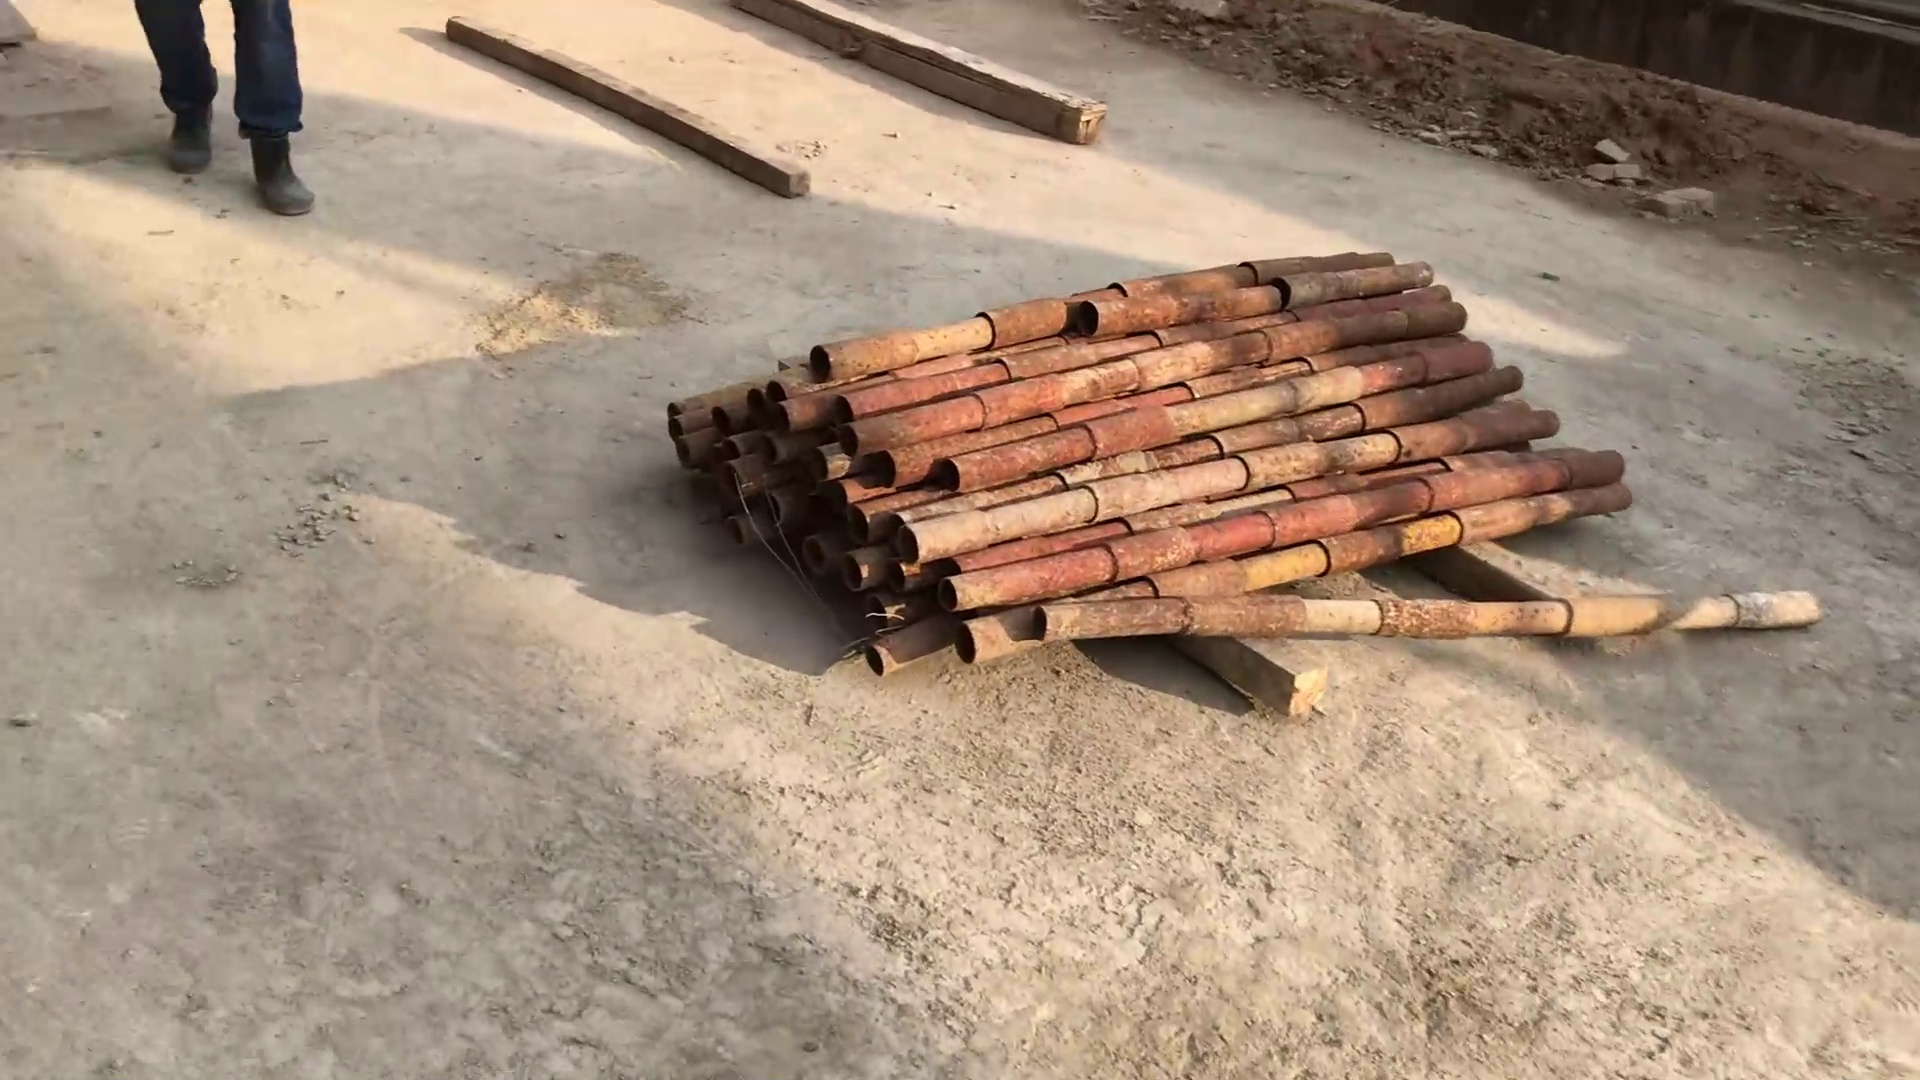person: (127, 1, 324, 220)
scaffold: (662, 250, 1826, 680)
